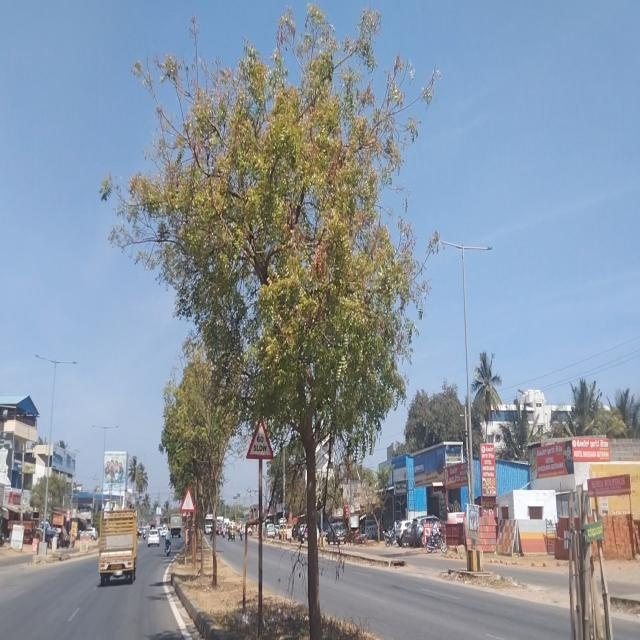bien_nguy_hiem: (246, 415, 273, 461), (179, 484, 195, 513)
